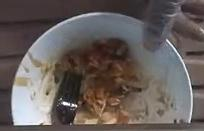rice_mix: (73, 39, 191, 123)
